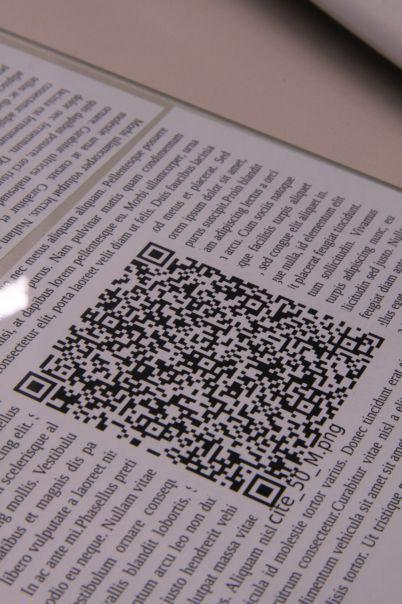qr_code: (13, 241, 386, 507)
